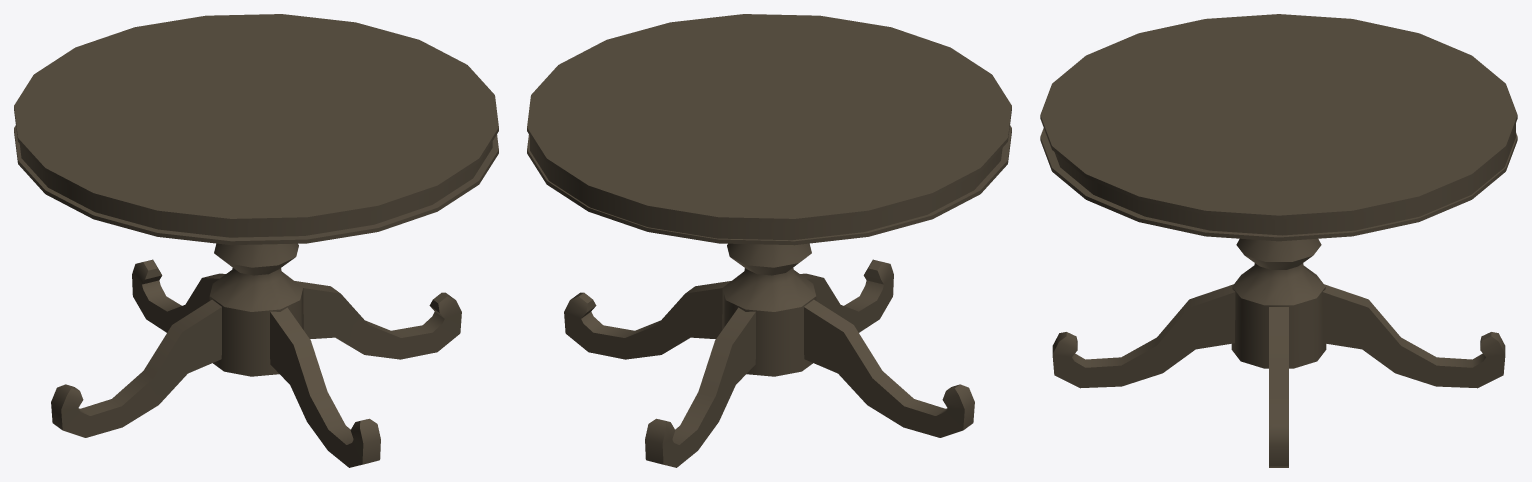
Rendered from Table_RoundSmall2.glb.
3 views of the same model, side by side, from view 1: azimuth 30°, elevation 25°; view 2: azimuth 150°, elevation 25°; view 3: azimuth 270°, elevation 25° (orthographic). The views are drawn at different scales.
Parts seen in each view (by area): view 1: Table_RoundSmall2; view 2: Table_RoundSmall2; view 3: Table_RoundSmall2.
Part boxes in pixels (bbox=[...]): Table_RoundSmall2: bbox=[14, 14, 498, 467]; Table_RoundSmall2: bbox=[527, 14, 1011, 467]; Table_RoundSmall2: bbox=[1040, 14, 1517, 467].
Size of the model in its own units: 0.9491 by 0.5906 by 0.9491.
1 material, 1 textured.
